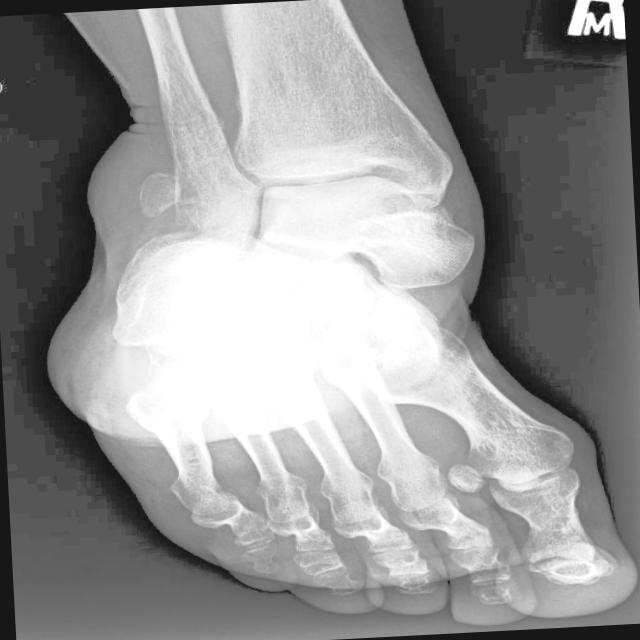Fracture Dislocation: (250, 186, 483, 292)
